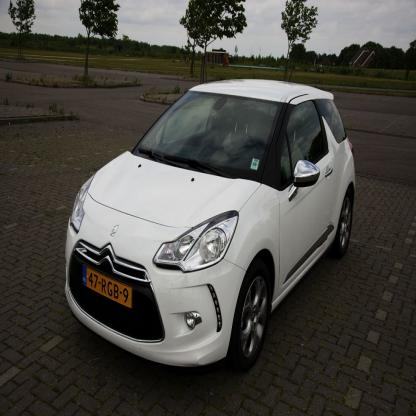Car: (65, 81, 357, 376)
